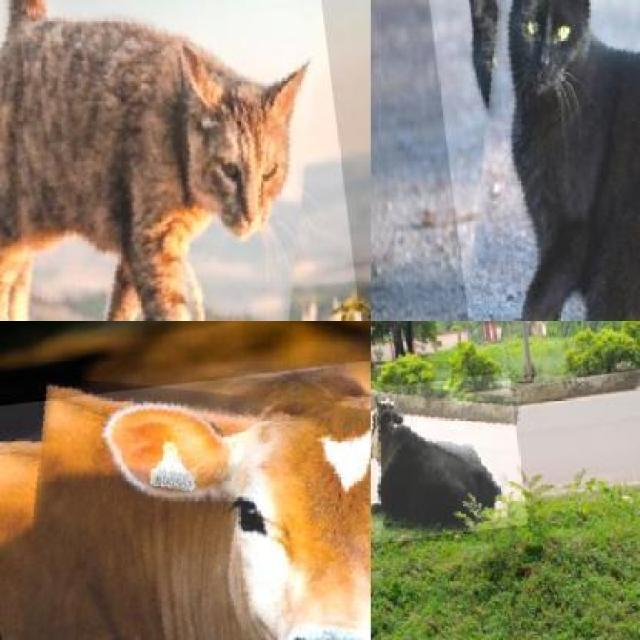cat: (0, 0, 371, 320), (424, 0, 640, 320)
cow: (0, 343, 371, 640), (370, 370, 528, 544)
